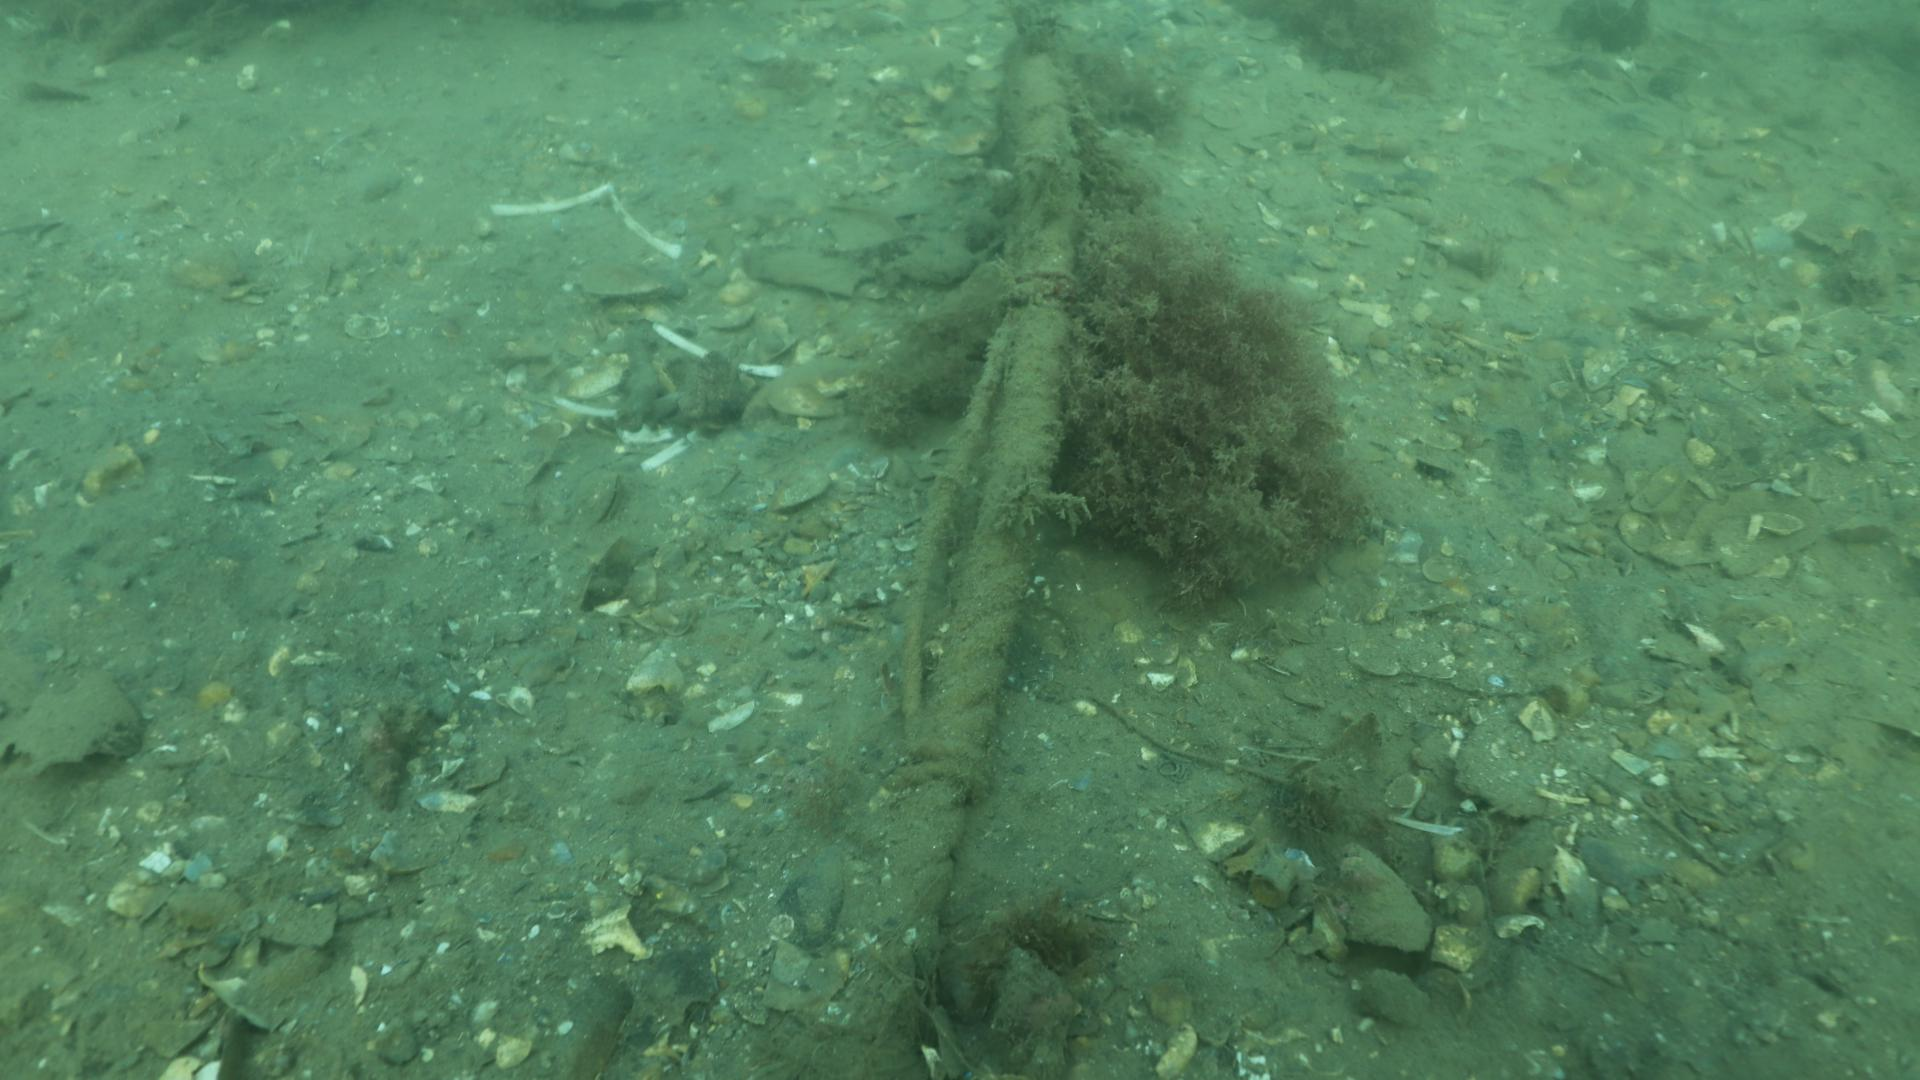rope: (849, 16, 1092, 1080)
